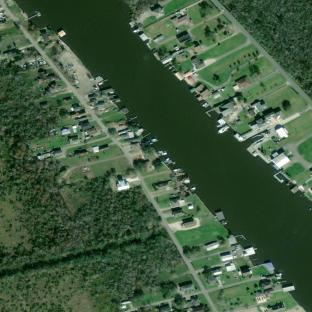Floresta: (0, 82, 88, 271), (76, 175, 182, 300), (220, 0, 312, 97)
